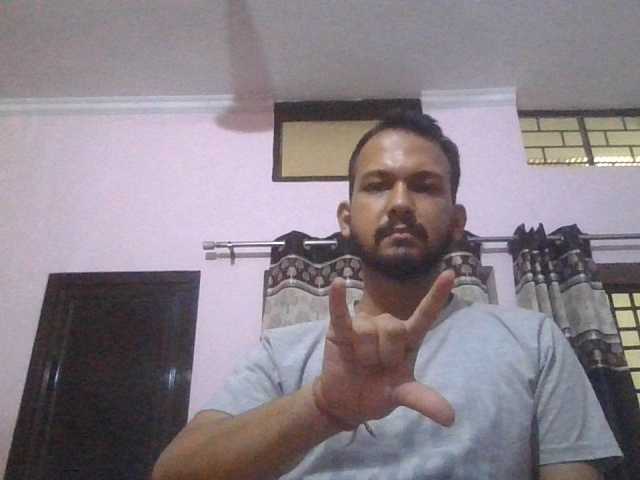iloveyou: (312, 269, 456, 429)
